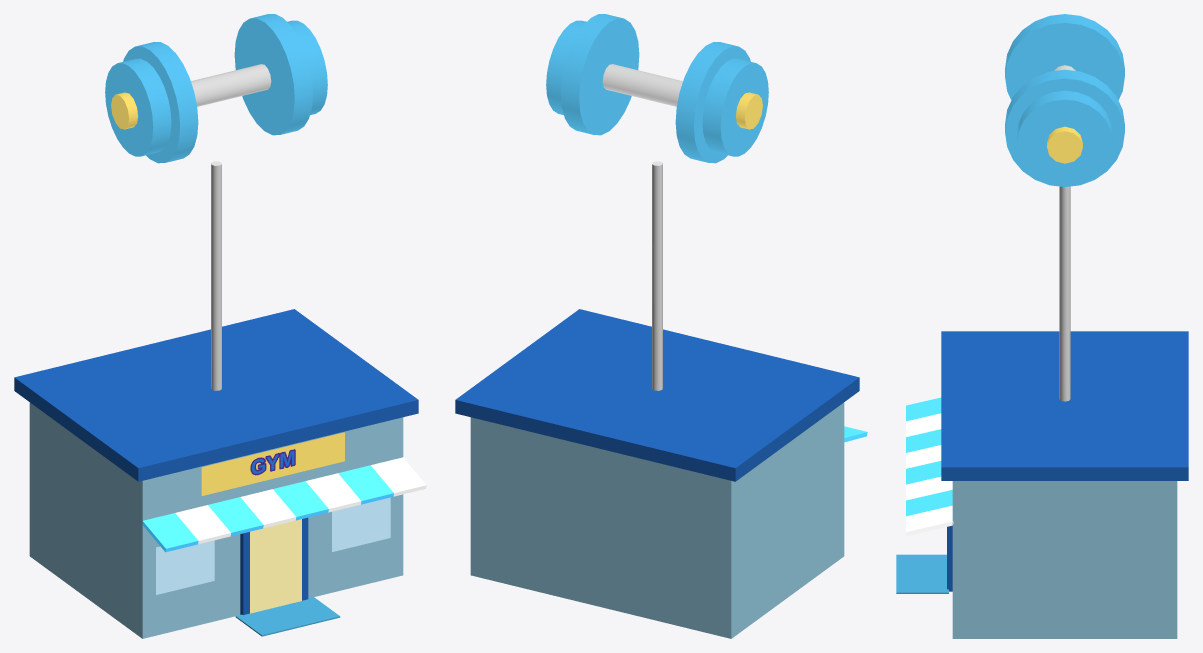
File: gym.glb
The picture shows the model from 3 angles, left to right: view 1: azimuth 30°, elevation 25°; view 2: azimuth 150°, elevation 25°; view 3: azimuth 270°, elevation 25°; orthographic projection.
Visible parts, largest first — view 1: gym, sign; view 2: gym, sign; view 3: gym, sign.
Part boxes in pixels (box(x1,y1,x2,y2)): gym: box(14, 161, 426, 638); sign: box(105, 14, 327, 163); gym: box(455, 161, 867, 638); sign: box(546, 14, 768, 163); gym: box(896, 186, 1188, 638); sign: box(1005, 14, 1124, 186).
Bounding box in the file's own units: 8.6 × 15.6 × 7.8.
Materials: 19 (1 with a texture image).
